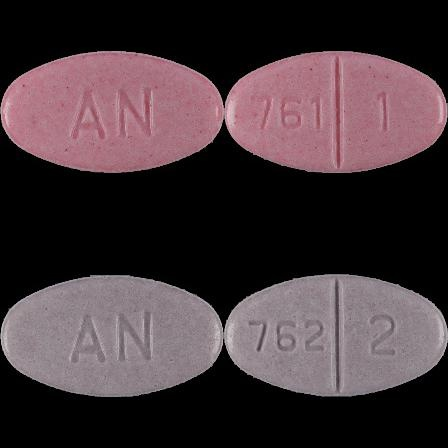65162-761: (0, 0, 224, 224)
